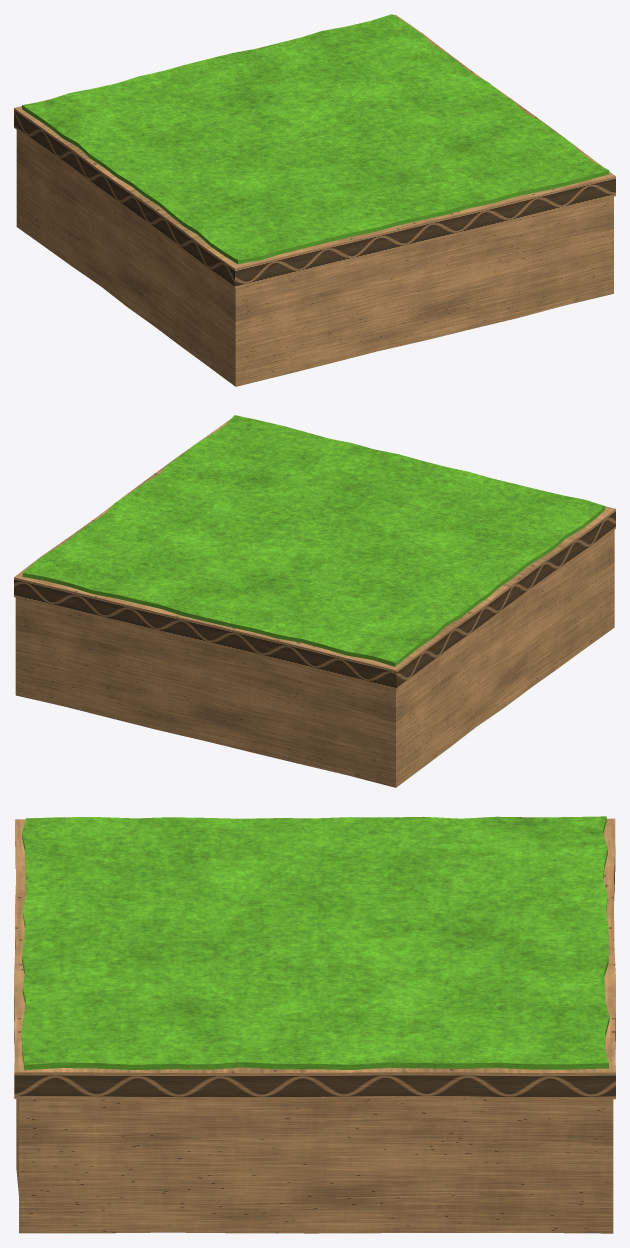
The model's file is ground_block_step.gltf.
3 renders of one model, top to bottom at view 1: azimuth 30°, elevation 25°; view 2: azimuth 150°, elevation 25°; view 3: azimuth 270°, elevation 25°, orthographic. The views are drawn at different scales.
Parts seen in each view (by area): view 1: ground_block_step; view 2: ground_block_step; view 3: ground_block_step.
Part boxes in pixels (box(x1,y1,x2,y2)): ground_block_step: box(14, 14, 615, 386); ground_block_step: box(14, 415, 615, 787); ground_block_step: box(14, 816, 615, 1233).
Bounding box in the file's own units: 2.03 × 0.62 × 2.03.
3 materials, 3 textured.
